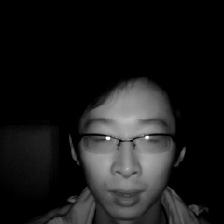happy: (58, 56, 191, 219)
